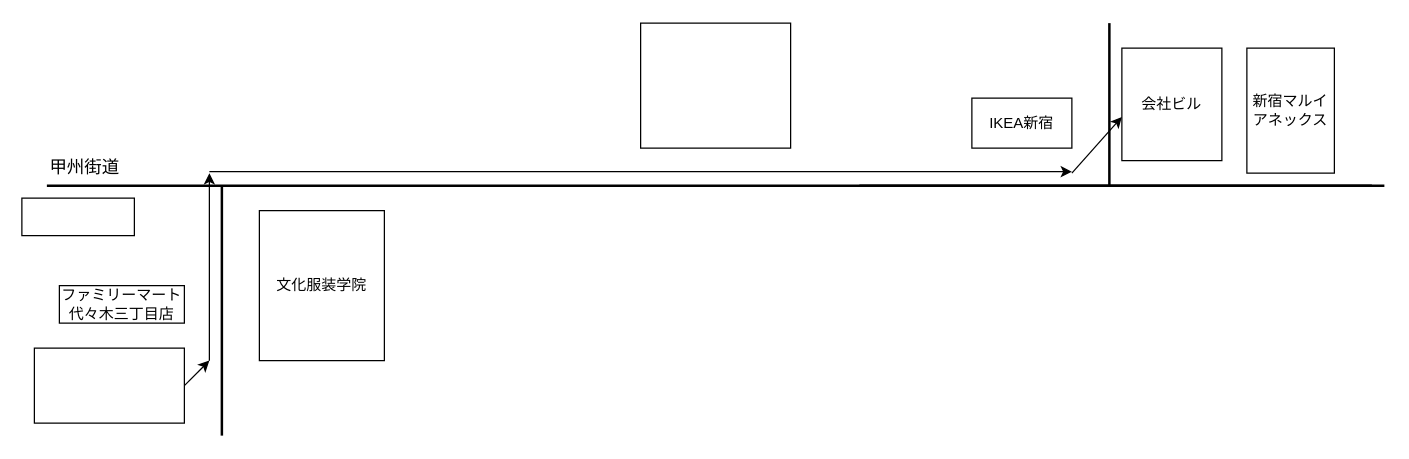
The diagram is 1409 pixels wide and 459 high, and some of its shapes have lost their labels. Each missing label, with the centre of its shape:
"ローソン 代々木三丁目店" goes at point 77,216.
"新宿駅南口" goes at point 715,85.
"自宅アパート" goes at point 108,385.
